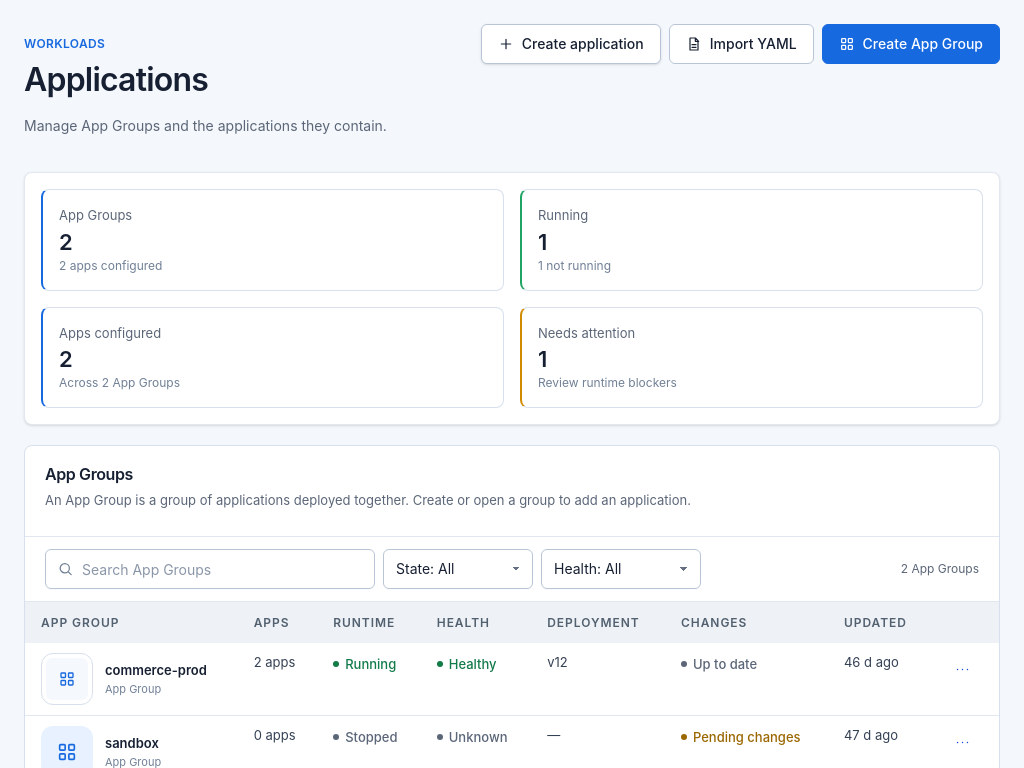
Scenario: ApplicationsPage › refreshes the visible app inventory without dropping the search filter
The image size is (1024, 768).
Check: the text "commerce-prod" is shown, box left=105, top=661, right=207, bottom=680
Type "commerce" into the field labelled "Search App Groups". click: x=210, y=569
box: left=45, top=549, right=375, bottom=589
Wait 15000 ms
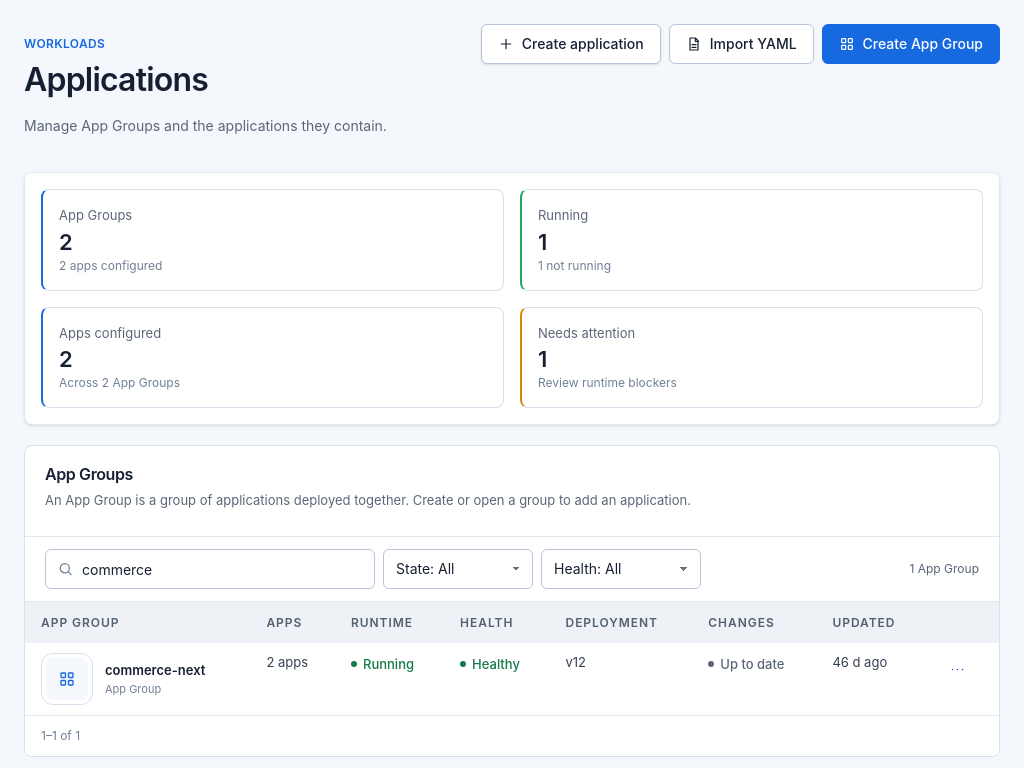
Check: the text "commerce-next" is shown, box left=105, top=661, right=205, bottom=680
Check: the link "commerce-prod" is gone
